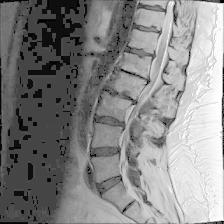disc: (94, 172, 128, 195), (136, 0, 170, 16)
hdisc: (112, 64, 156, 88), (104, 86, 142, 107), (88, 141, 124, 162), (92, 110, 128, 130), (122, 44, 160, 62), (131, 20, 164, 38)
